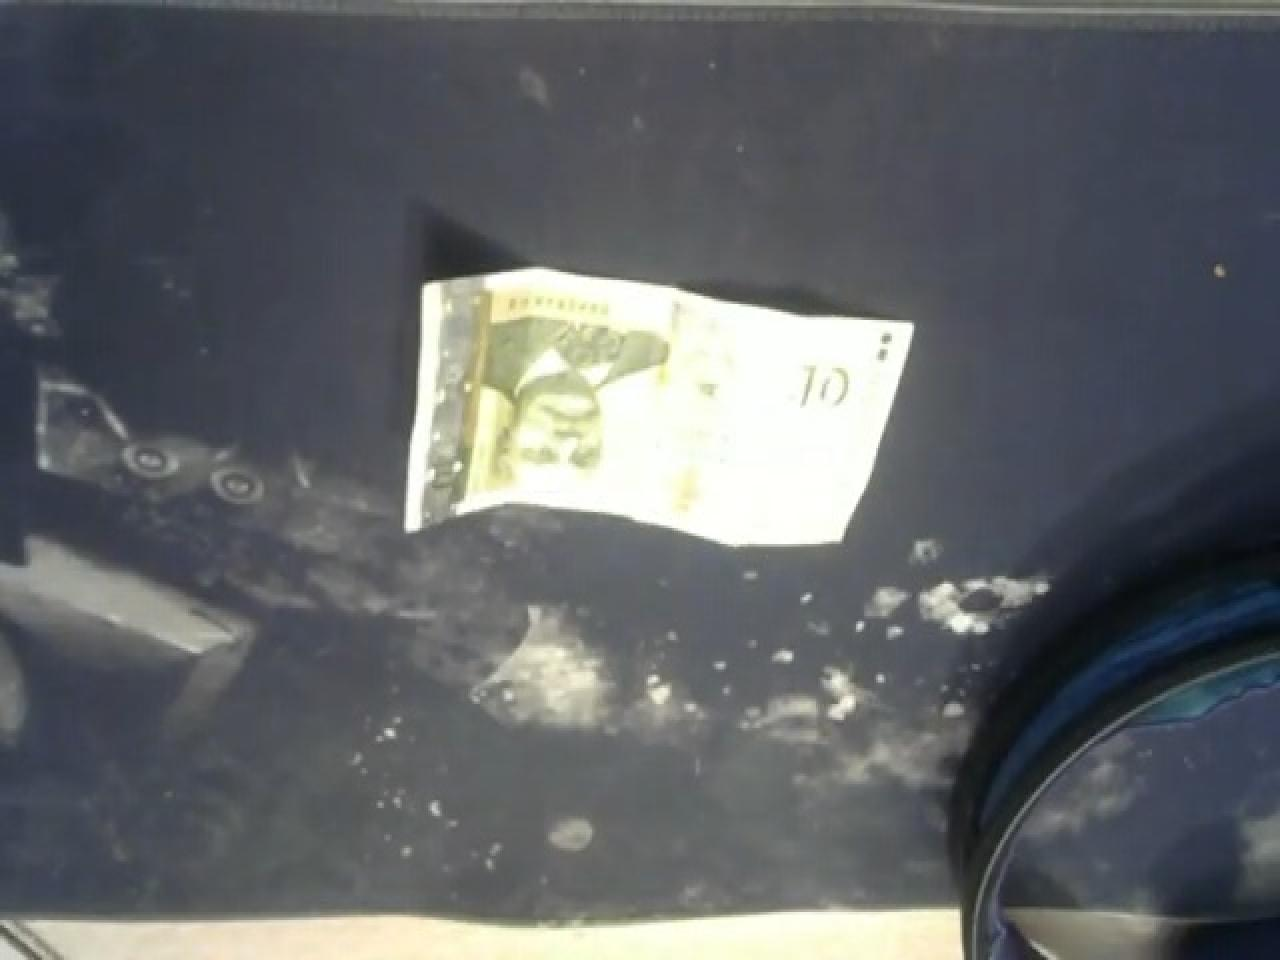10leva: (402, 261, 918, 544)
